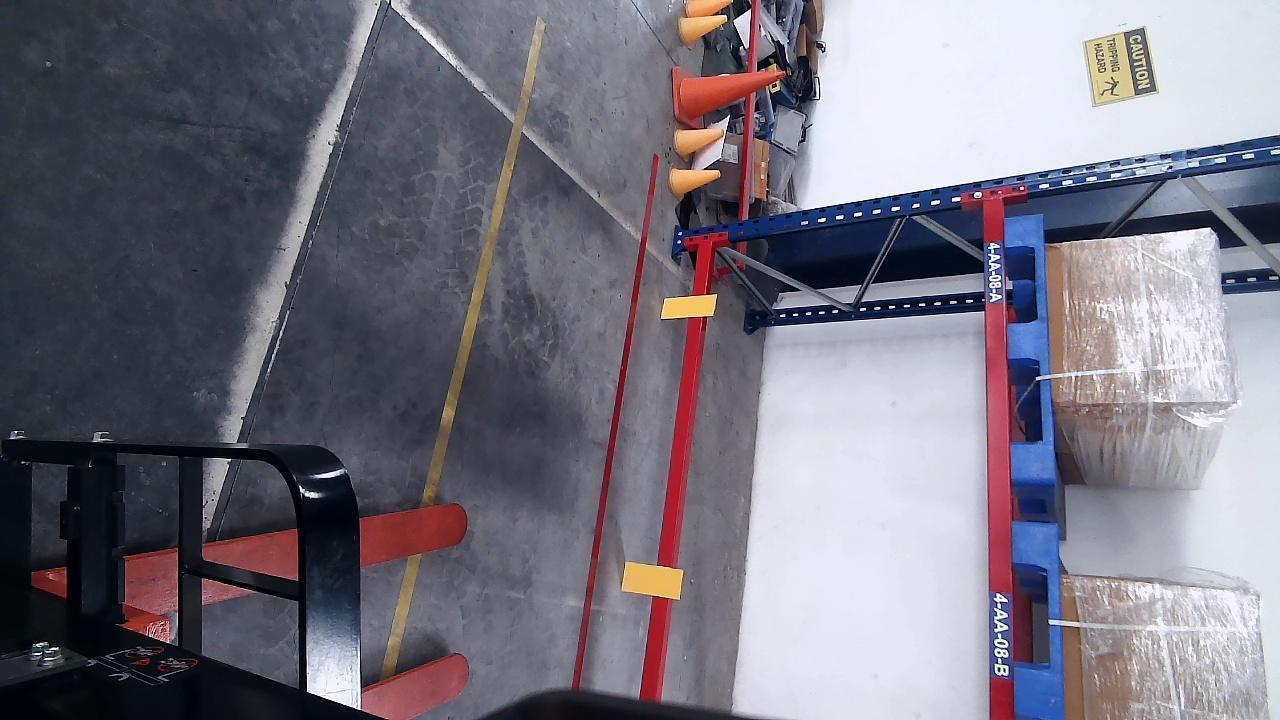red_line: (571, 154, 661, 689)
yellow_line: (423, 14, 547, 509)
